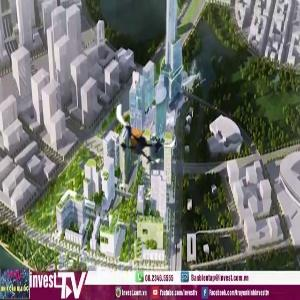drone: (110, 106, 179, 175)
